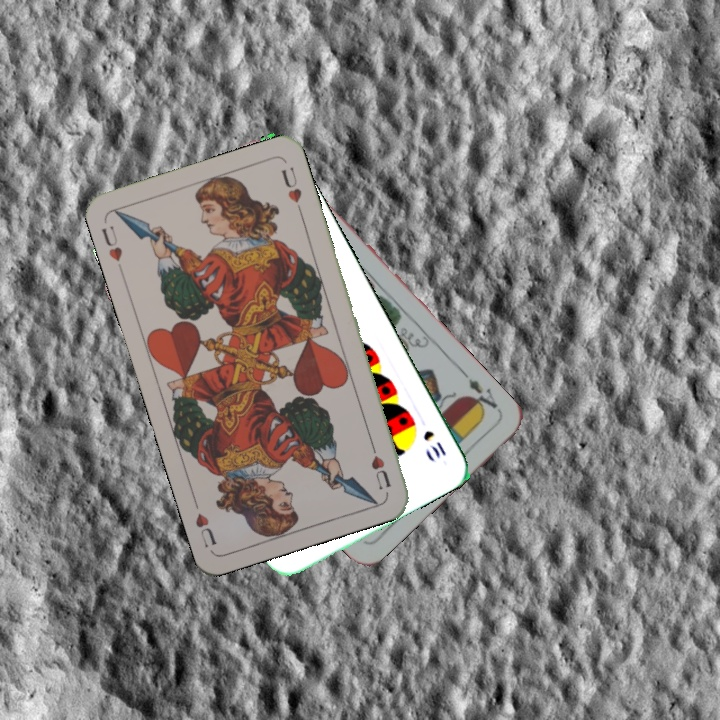EA: (463, 374, 501, 417)
HU: (366, 437, 393, 492), (97, 221, 125, 264)
S10: (419, 426, 449, 461)
